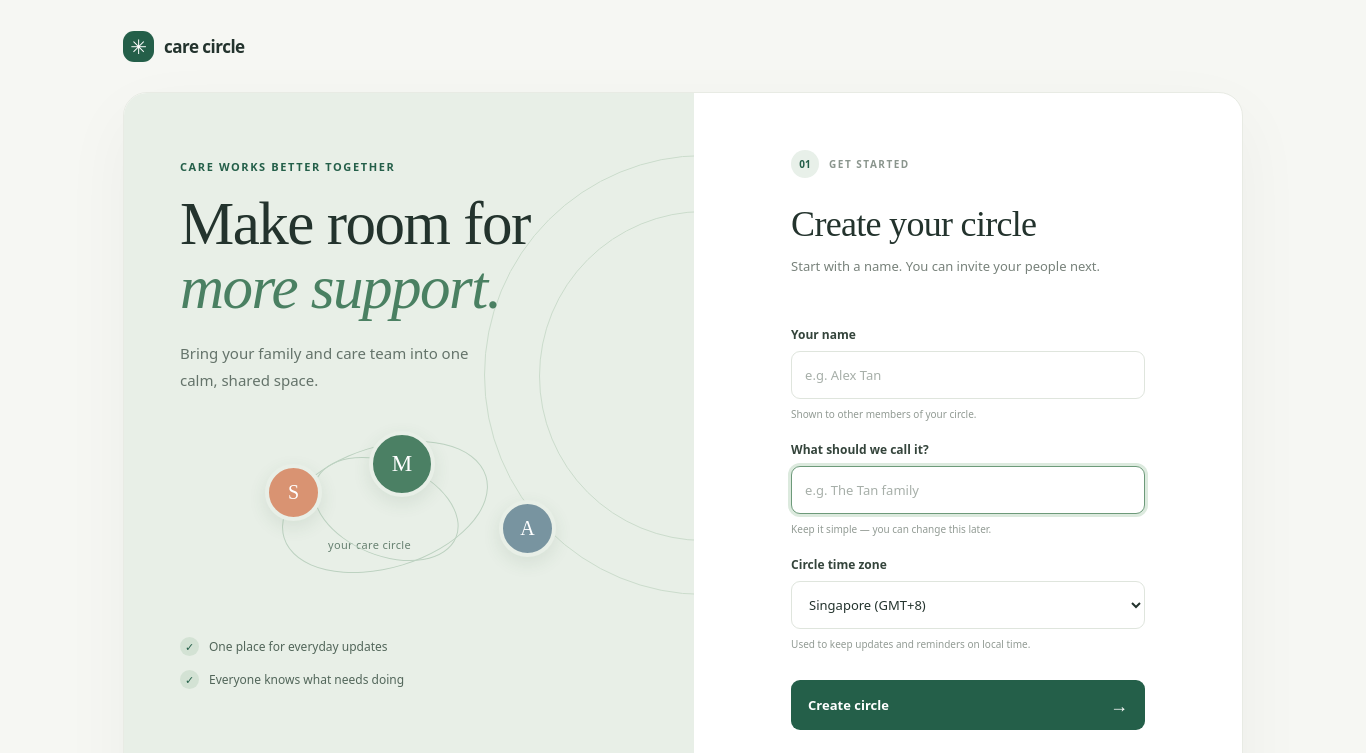
Test: CreateCirclePage › requires a circle name
The width and height of the screenshot is (1366, 753).
Click the button "Create circle →" at (848, 705), box left=791, top=680, right=1145, bottom=730
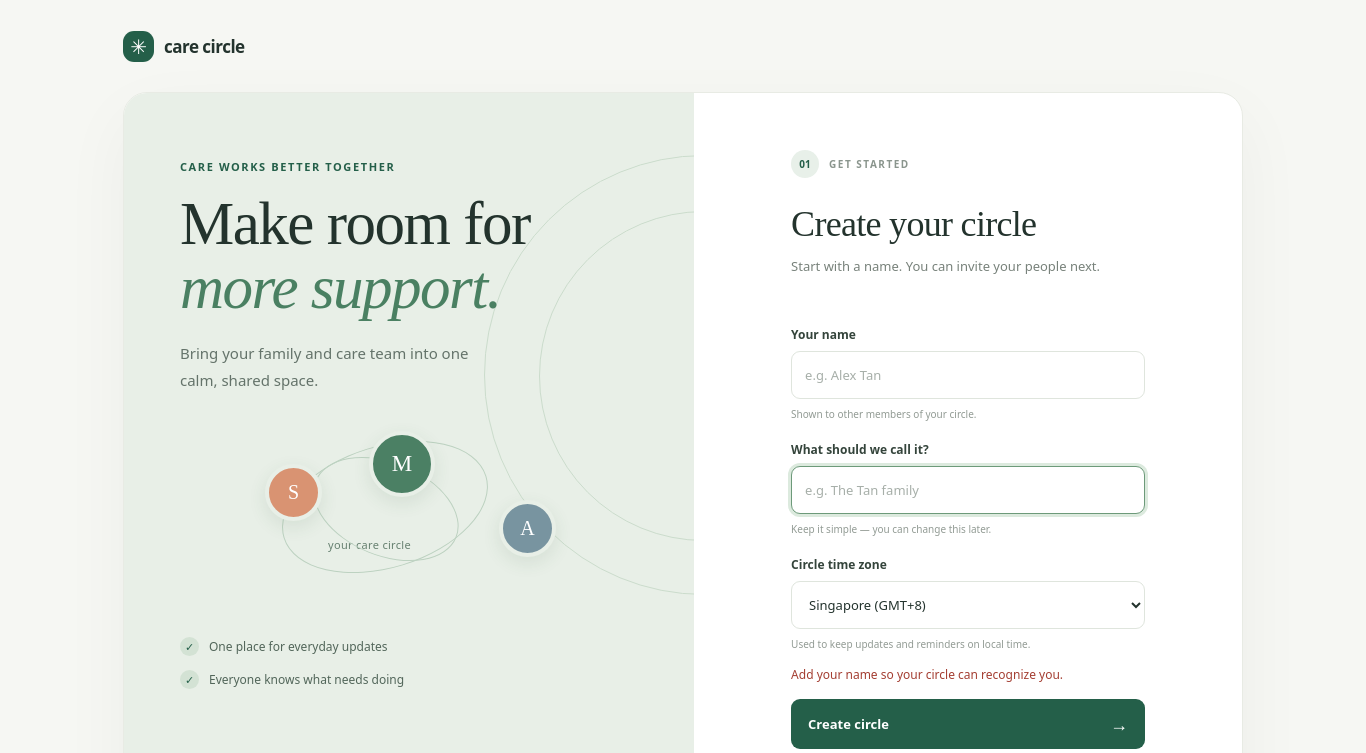
Expected: the message shows "Add your name", left=791, top=666, right=1063, bottom=683
Type "Alex Tan" into the field labelled "Your name" at (968, 375), box left=791, top=351, right=1145, bottom=399
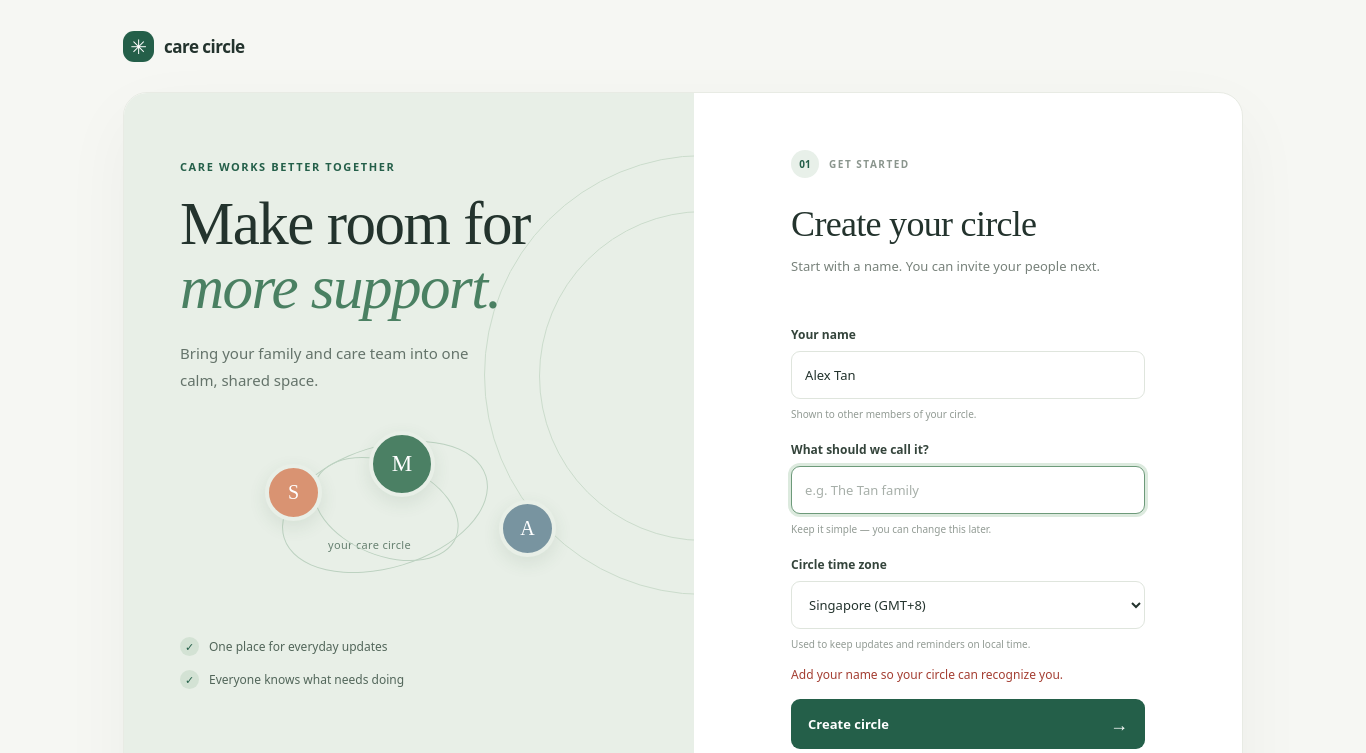
Click the button "Create circle →" at (848, 724), box left=791, top=699, right=1145, bottom=749
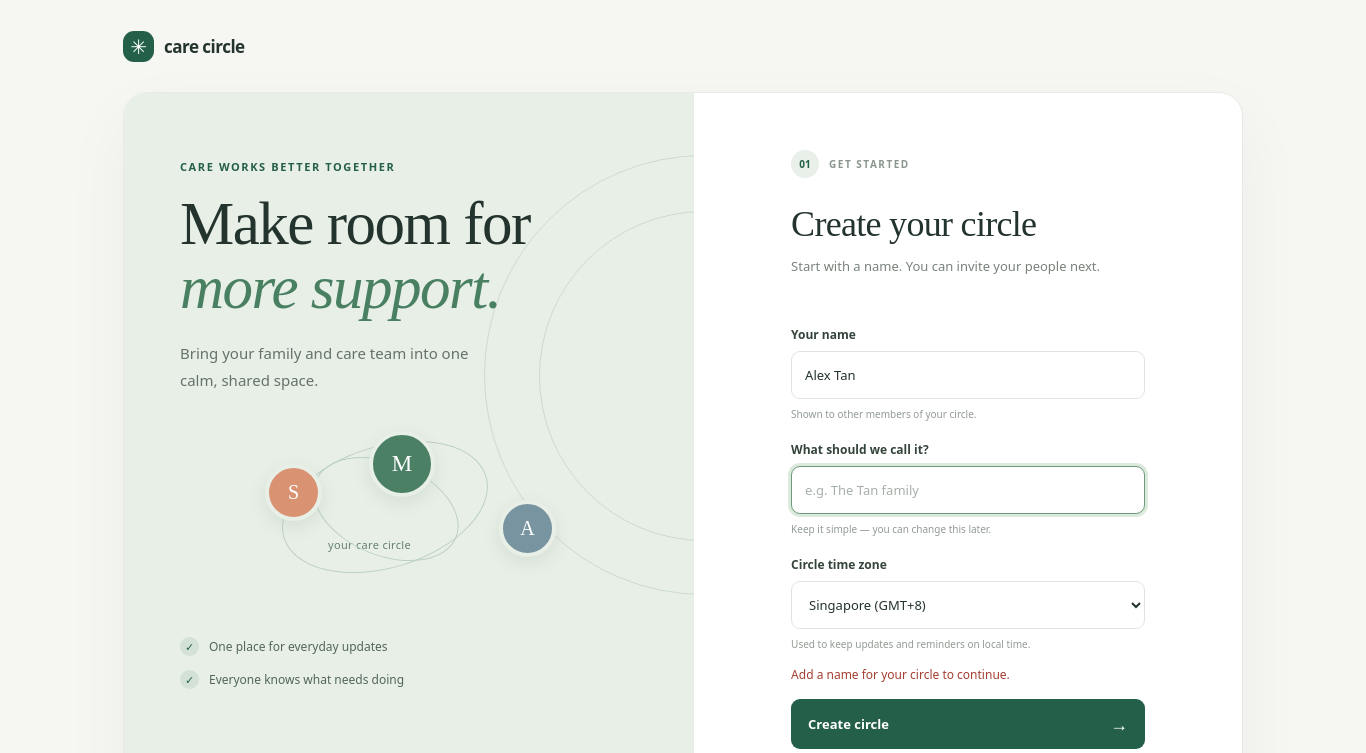
Expected: the message shows "Add a name for your circle", left=791, top=666, right=1010, bottom=683
